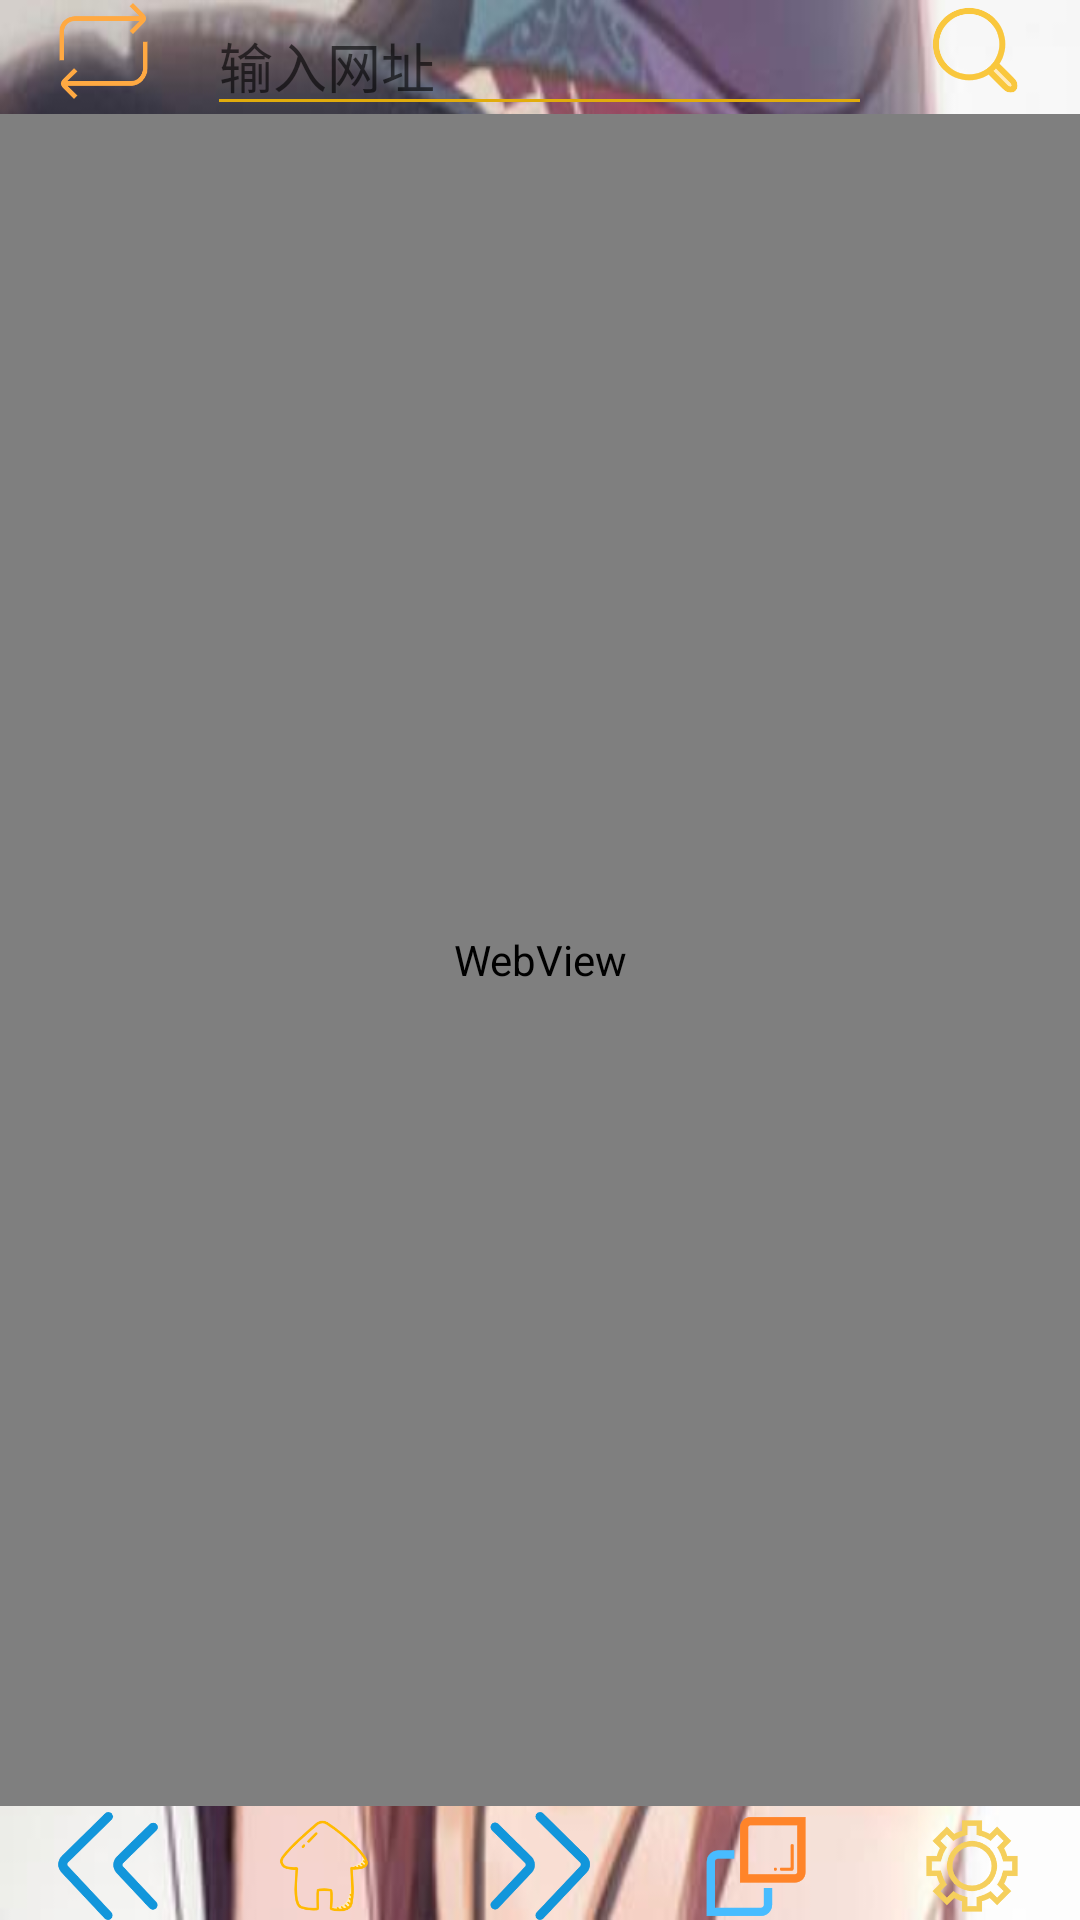

Point at icon controls on the screen. Image size 1080px×1920px, points as (x,y).
back: (108,1866)
forward: (540,1866)
home page: (324,1866)
renovate: (103,51)
search: (976,51)
settings: (972,1866)
windows: (727,1866)
